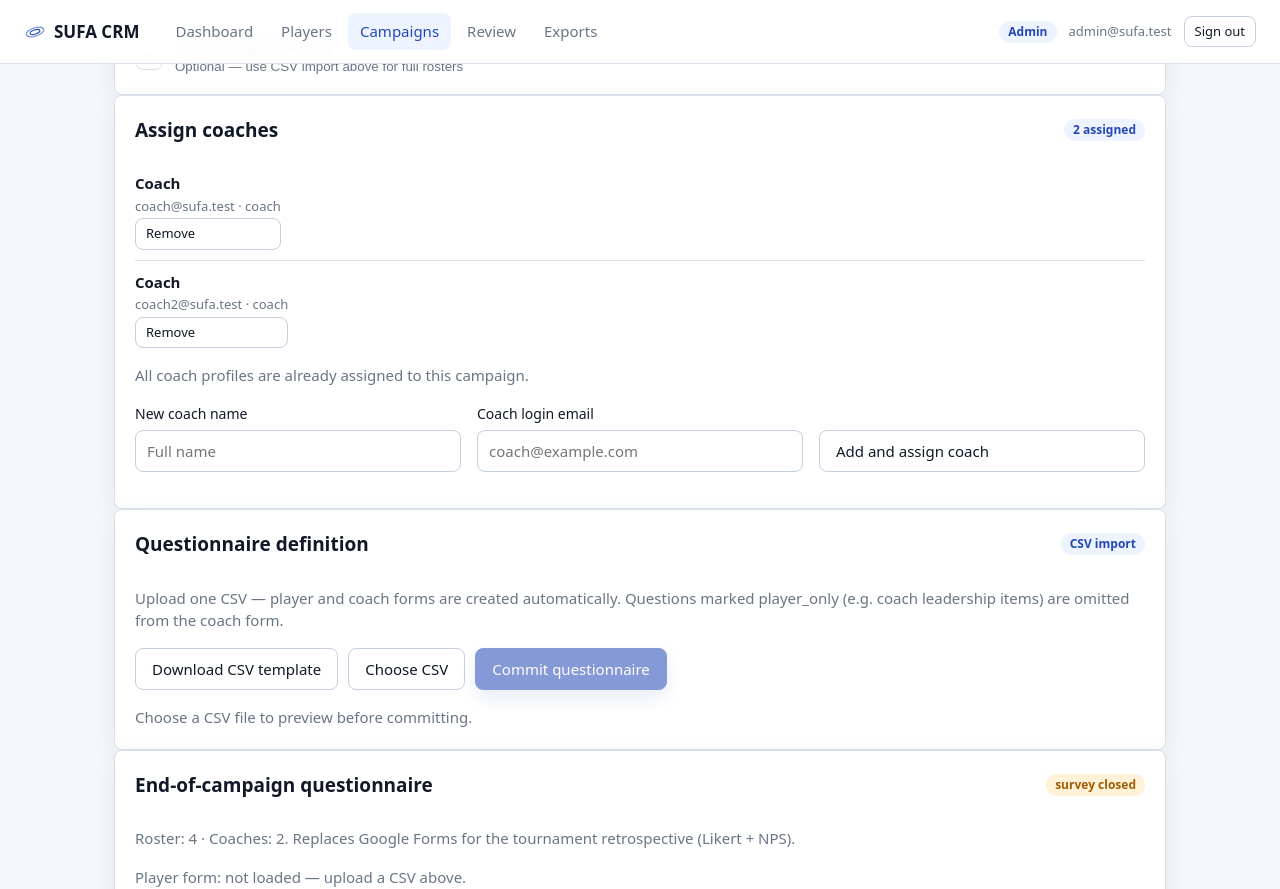
Test: App routing › lets an admin create and assign a coach on campaign detail
This screenshot has width=1280, height=889.
(page scrolled)
Expected: the heading "Assign coaches" is shown, [135, 116, 278, 144]
Expected: the heading "Questionnaire definition" is shown, [135, 530, 369, 558]
Type "Coach Ng" into the field labelled "New coach name" at (298, 451), box [135, 430, 461, 472]
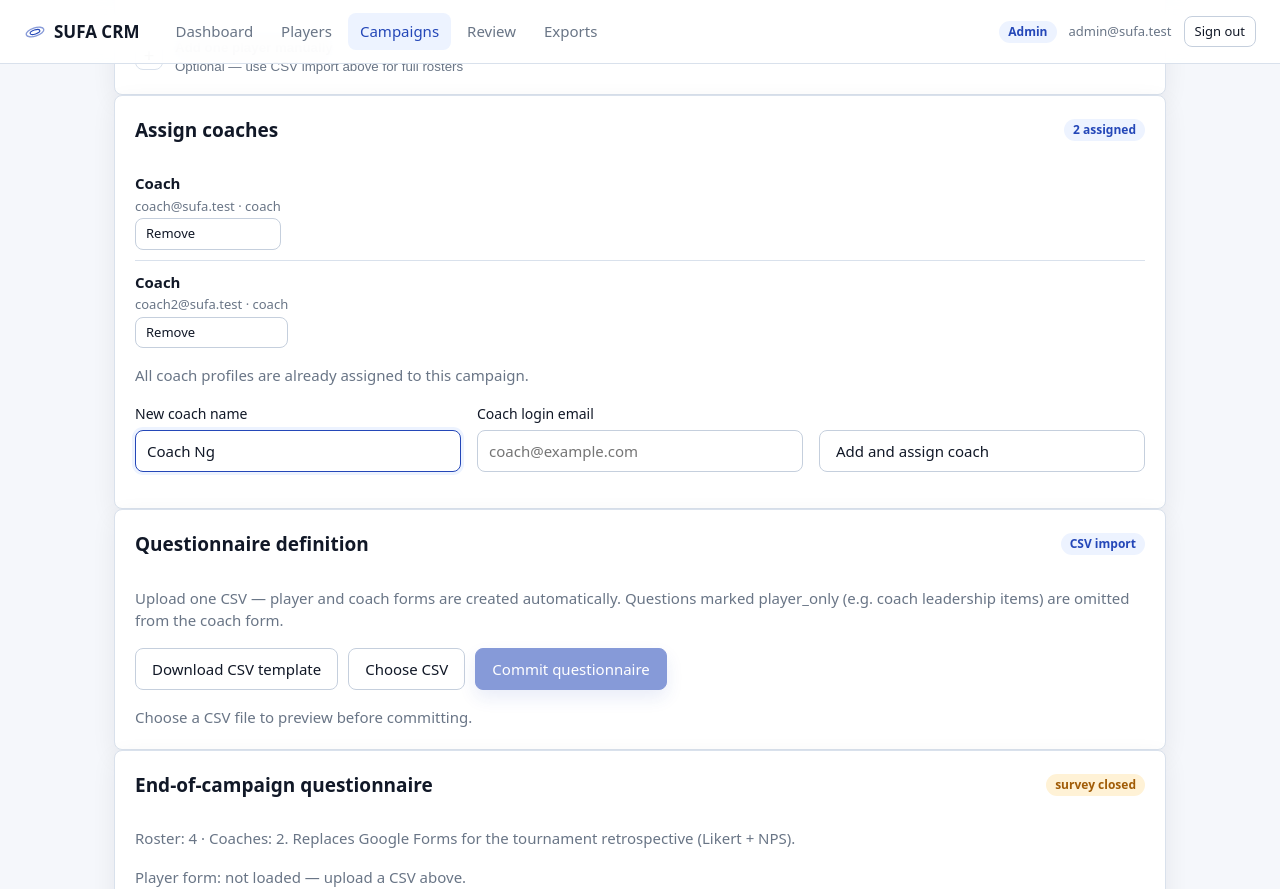
Type "coach.ng@sufa.test" into the field labelled "Coach login email" at (640, 451), box [477, 430, 803, 472]
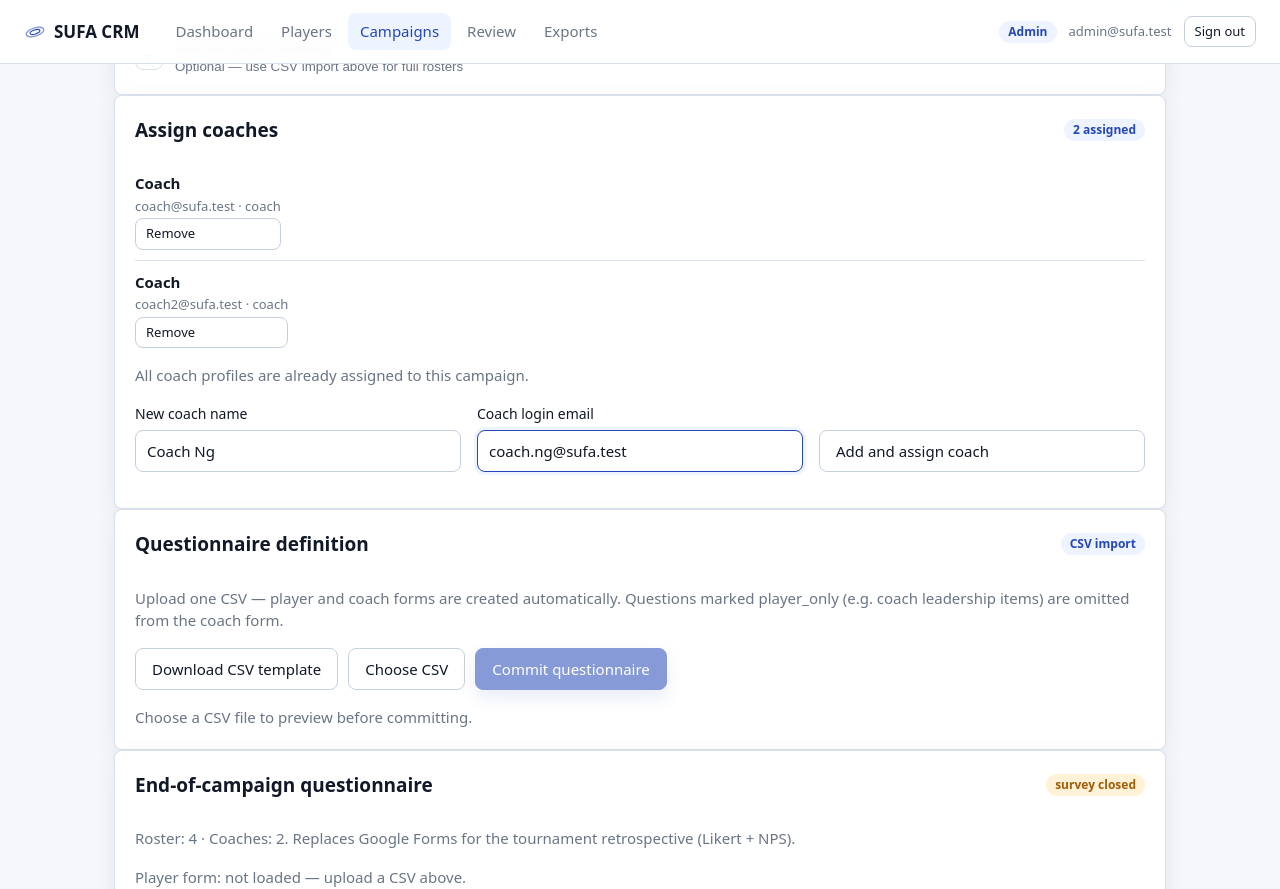
Click the button "Add and assign coach" at (982, 451), box [819, 430, 1145, 472]
(page scrolled)
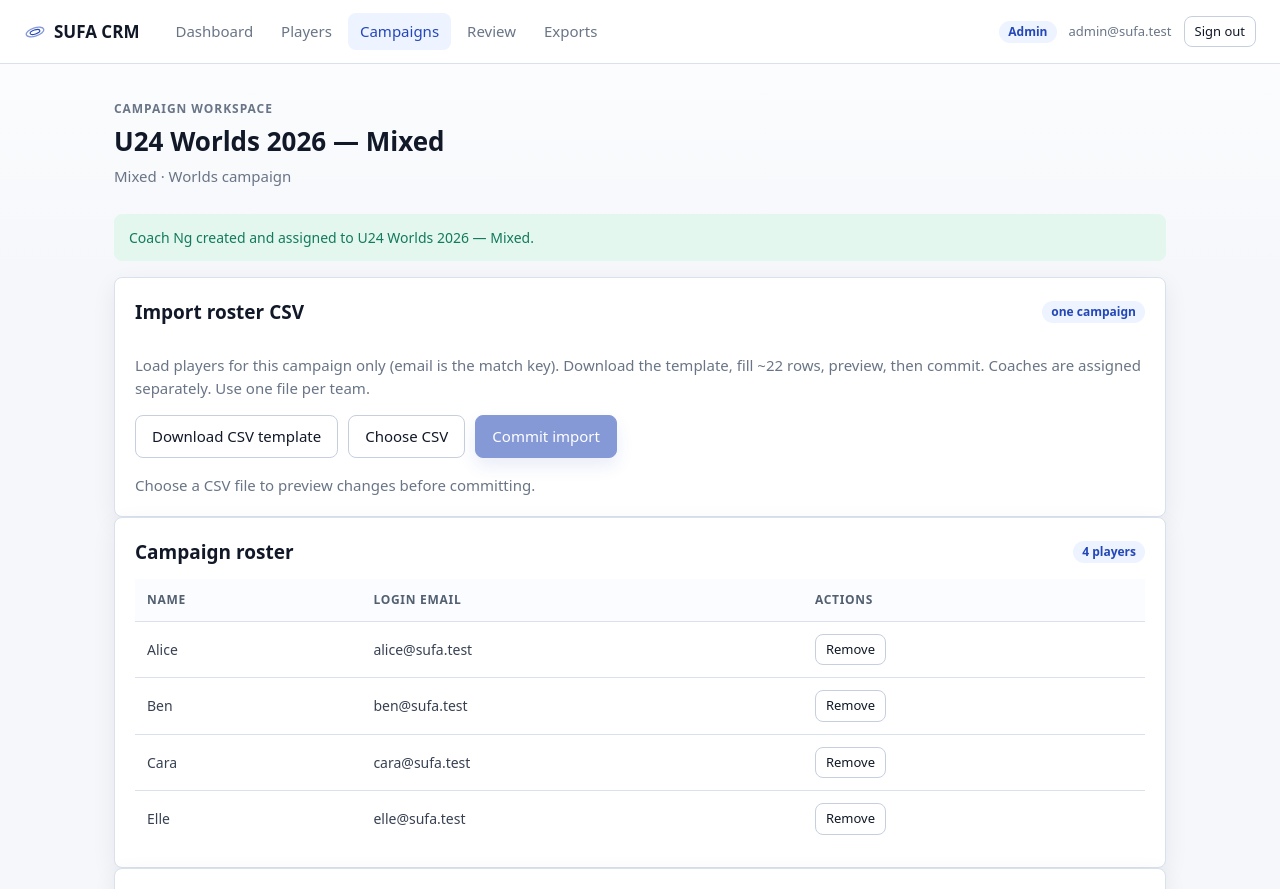
Expected: the text "Coach Ng created and assigned to U24 Worlds 2026 — Mixed." is shown, [114, 214, 1166, 260]
